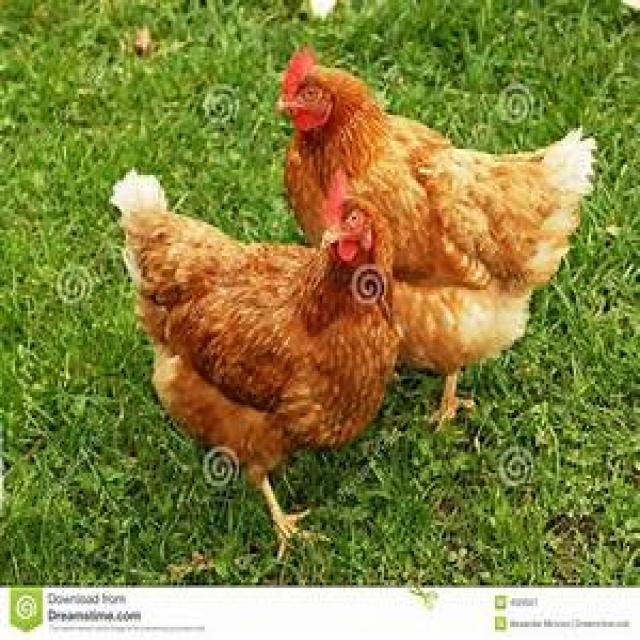hen: (275, 47, 597, 431), (109, 172, 401, 551)
